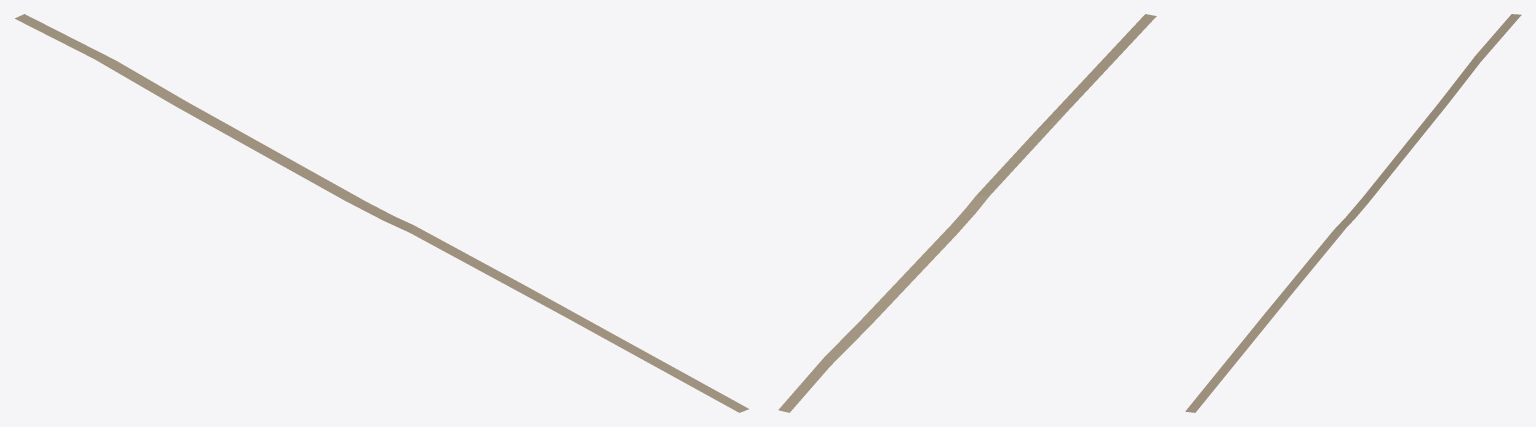
File: farm_-24_-23_track.glb
3 views of the same model, side by side, from view 1: azimuth 30°, elevation 25°; view 2: azimuth 150°, elevation 25°; view 3: azimuth 330°, elevation 25° (orthographic). The views are drawn at different scales.
Parts seen in each view (by area): view 1: geometry_0; view 2: geometry_0; view 3: geometry_0.
Part boxes in pixels (box(x1,y1,x2,y2)): geometry_0: box(15, 14, 748, 412); geometry_0: box(778, 14, 1156, 412); geometry_0: box(1185, 14, 1521, 412).
Bounding box in the file's own units: 51.66 × 7.71 × 281.
